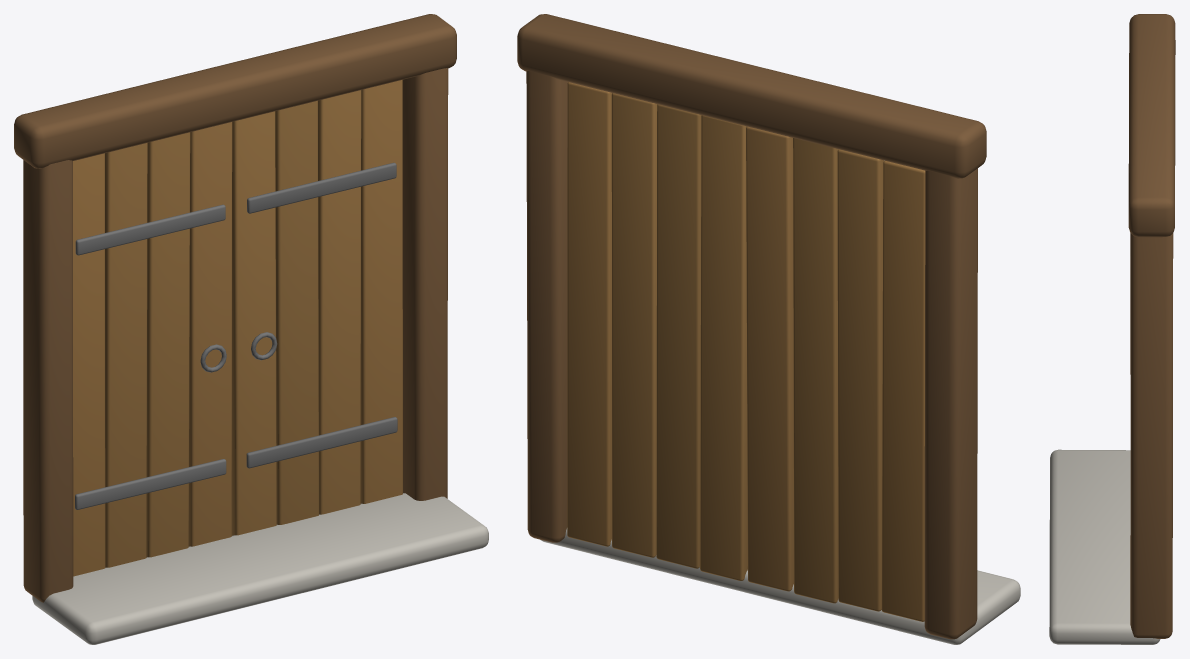
File: tg_door_double.glb
3 views of the same model, side by side, from view 1: azimuth 30°, elevation 25°; view 2: azimuth 150°, elevation 25°; view 3: azimuth 270°, elevation 25° (orthographic). The views are drawn at different scales.
Visible parts, largest first — view 1: door_tg_double; view 2: door_tg_double; view 3: door_tg_double.
Boxes of the visible parts, box(x1,y1,x2,y2) form: door_tg_double: box(14, 14, 488, 644); door_tg_double: box(517, 14, 1020, 644); door_tg_double: box(1049, 14, 1175, 644).
Bounding box in the file's own units: 2.36 × 2.6 × 0.6555.
